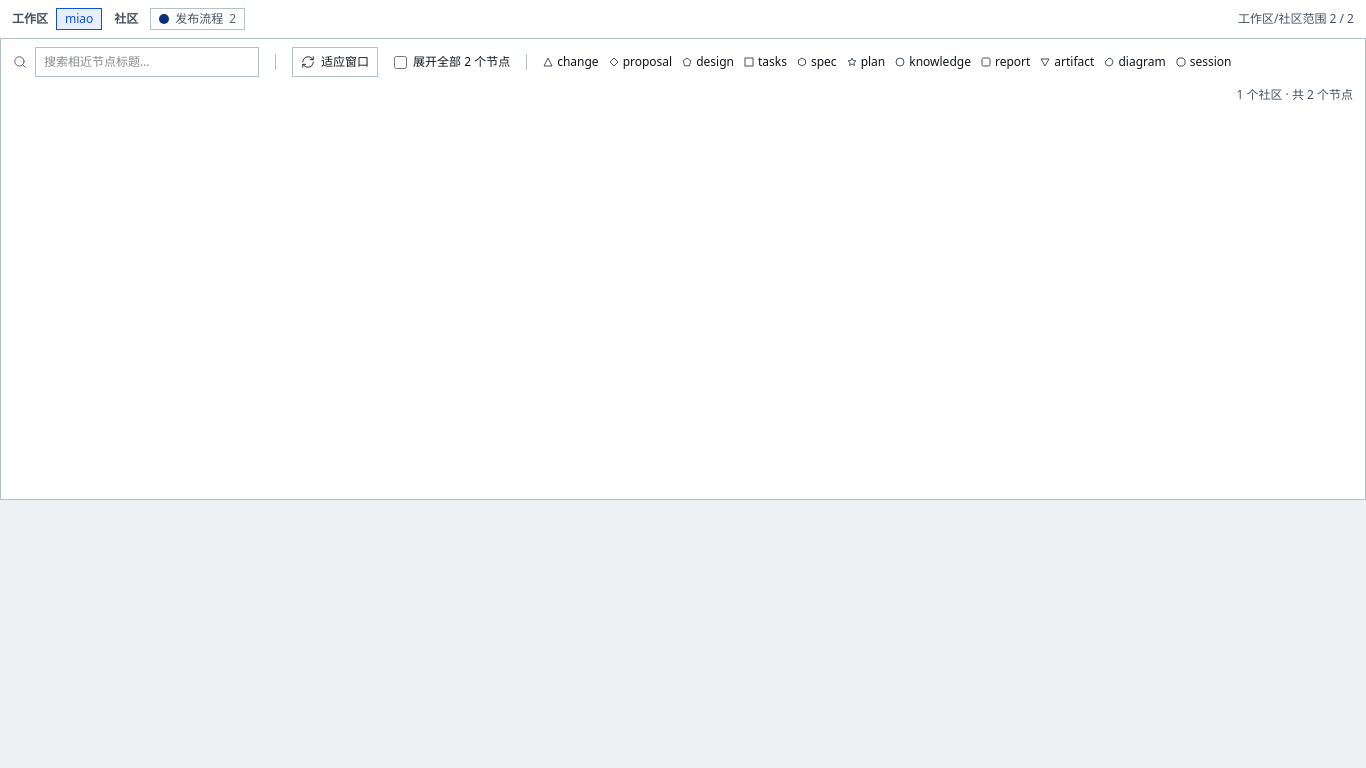
Scenario: WikiGraph › shows community overview errors
Click the button with test id "community-chip".
click(198, 19)  # box [150,8,245,30]
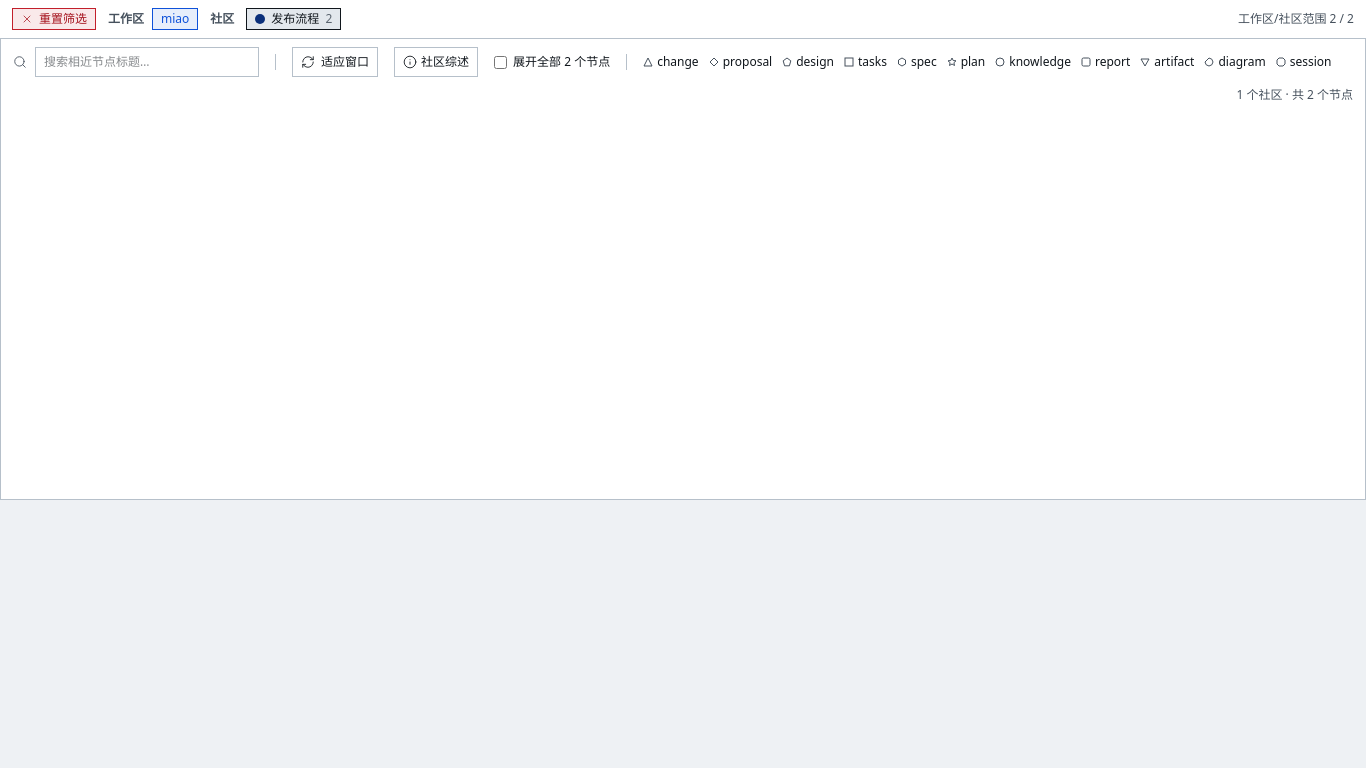
Click the button "社区综述".
click(436, 62)  # box [394,47,478,77]
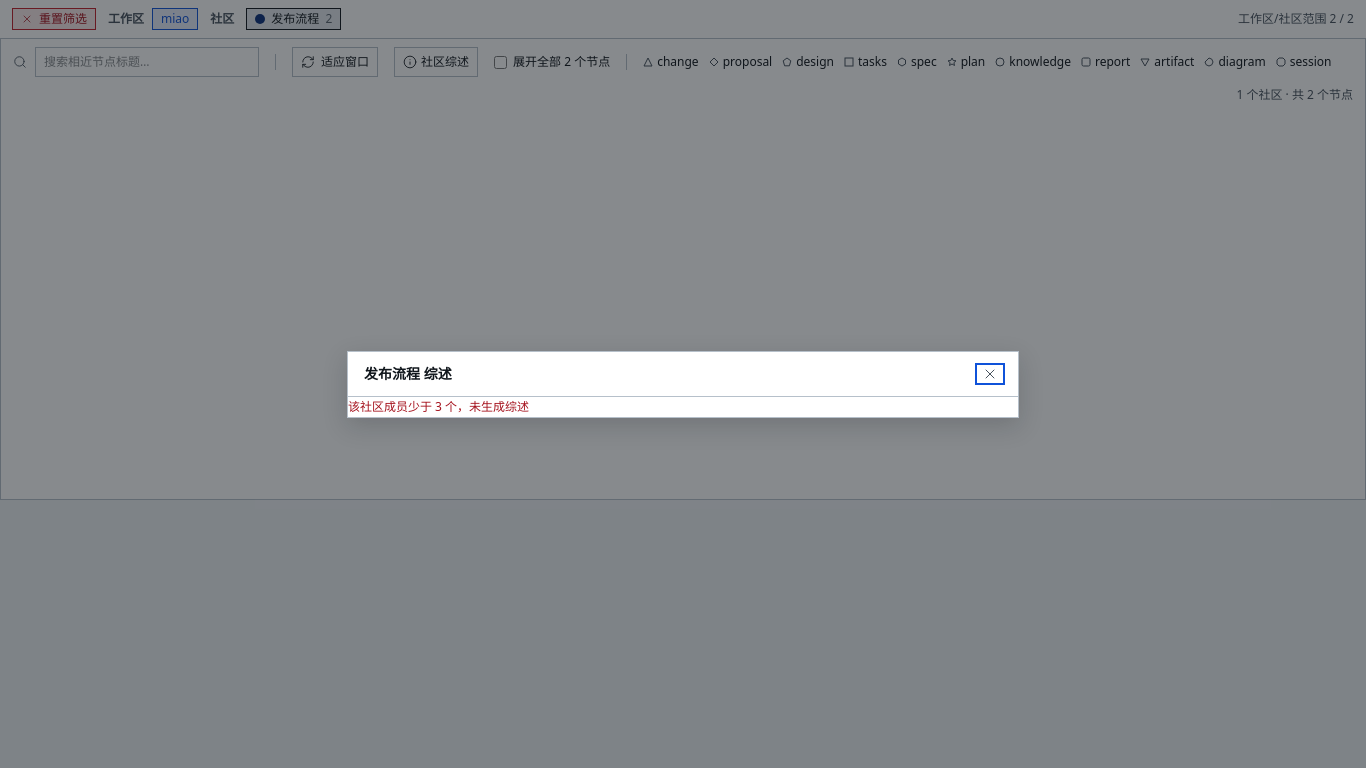
Result: the text "该社区成员少于 3 个，未生成综述" is shown at [348,398,529,414]
